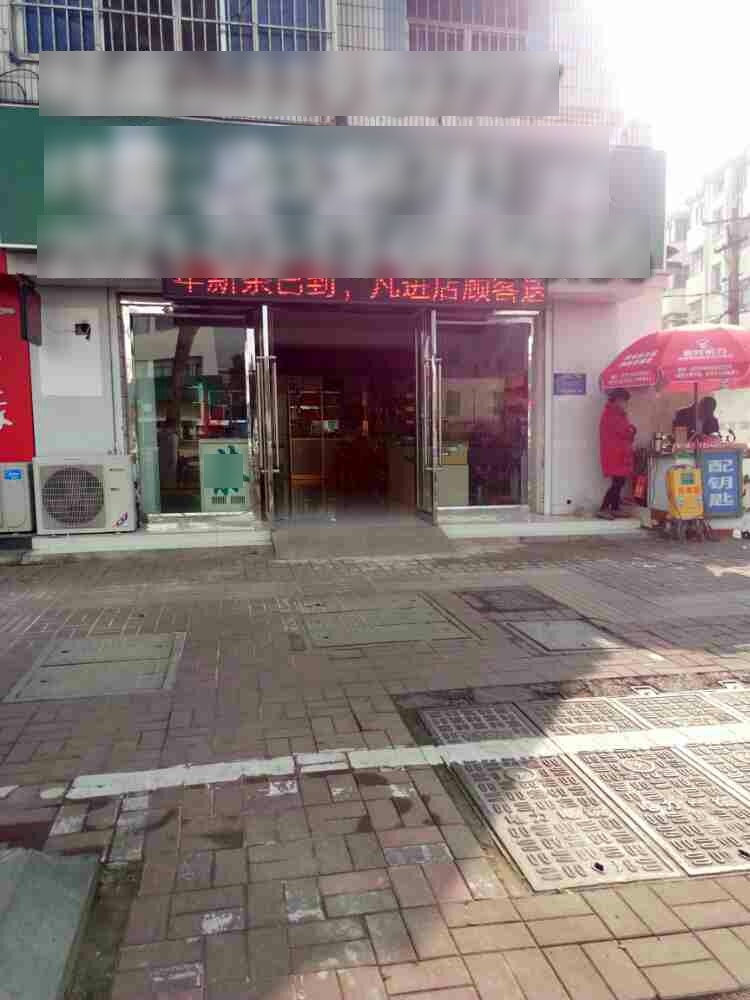good: (395, 678, 750, 892), (286, 587, 486, 649), (1, 632, 186, 698)
